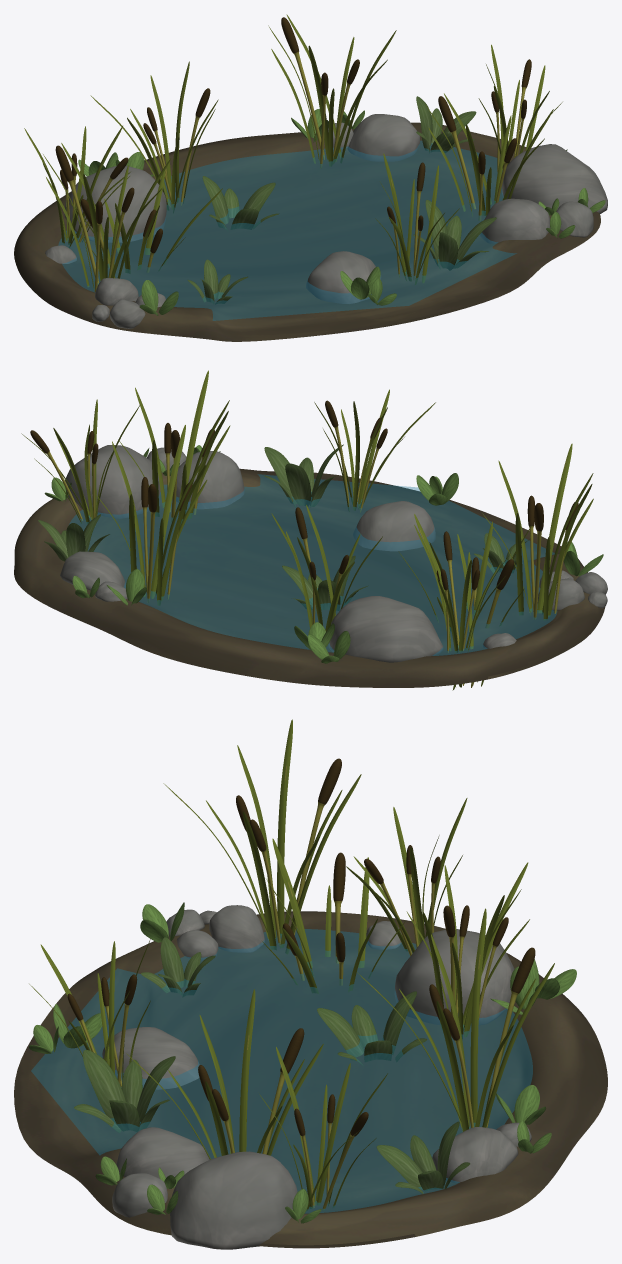
The model's file is basis_vliegen_open__tex.fbx.
3 renders of one model, top to bottom at view 1: azimuth 30°, elevation 25°; view 2: azimuth 150°, elevation 25°; view 3: azimuth 270°, elevation 25°, orthographic. The views are drawn at different scales.
Parts seen in each view (by area): view 1: vijver, water, steen_1_5, stengel_1, stengel_1_2, steen_1_2, stengel_1_8, stengel_1_4, steen_1_1, stengel_1_3, steen_1_6, steen_1_3 (+12 smaller); view 2: vijver, water, steen_1_2, stengel_1_2, stengel_1, steen_1_5, stengel_1_4, steen_1_3, stengel_1_6, stengel_1_3, stengel_1_5, stengel_1_8 (+15 smaller); view 3: vijver, water, steen_1_5, stengel_1, stengel_1_2, steen_1_2, stengel_1_4, stengel_1_7, blad_1_2, stengel_1_8, stengel_1_5, stengel_1_6 (+15 smaller).
Part boxes in pixels (x1,y1,x2,y2): vijver: (14, 122, 600, 341); water: (58, 141, 516, 320); steen_1_5: (502, 144, 607, 213); stengel_1: (268, 14, 396, 168); stengel_1_2: (43, 143, 170, 292); steen_1_2: (64, 165, 166, 242); stengel_1_8: (90, 61, 218, 213); stengel_1_4: (425, 93, 553, 220); steen_1_1: (347, 114, 419, 161); stengel_1_3: (375, 153, 459, 284); steen_1_6: (480, 198, 550, 243); steen_1_3: (306, 251, 381, 303); vijver: (14, 468, 605, 687); water: (69, 474, 556, 655); steen_1_2: (328, 596, 443, 662); stengel_1_2: (482, 443, 593, 620); stengel_1: (96, 425, 207, 605); steen_1_5: (65, 445, 160, 518); stengel_1_4: (119, 370, 230, 524); steen_1_3: (353, 501, 435, 551); stengel_1_6: (414, 525, 508, 652); stengel_1_3: (314, 389, 435, 512); stengel_1_5: (21, 399, 139, 526); stengel_1_8: (271, 505, 382, 631); vijver: (14, 911, 607, 1248); water: (31, 929, 532, 1213); steen_1_5: (170, 1151, 297, 1249); stengel_1: (357, 908, 554, 1131); stengel_1_2: (163, 719, 361, 954); steen_1_2: (394, 929, 514, 1025); stengel_1_4: (126, 989, 323, 1159); stengel_1_7: (262, 838, 405, 993); blad_1_2: (74, 1050, 175, 1132); stengel_1_8: (406, 862, 529, 1039); stengel_1_5: (259, 1047, 387, 1210); stengel_1_6: (346, 798, 467, 955).
Size of the model in its own units: 1209 by 458 by 904.
Materials: 6 (5 with a texture image).
